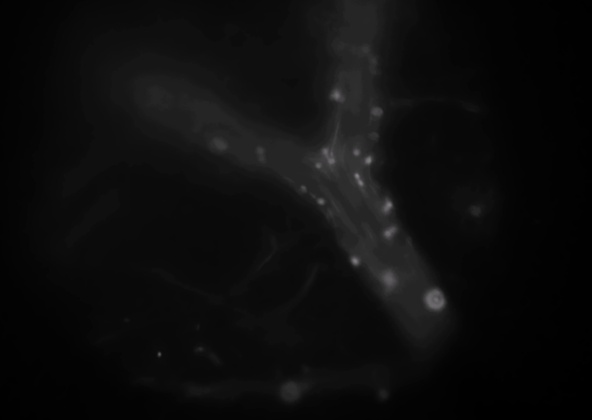cell: (429, 293, 443, 307), (369, 105, 383, 119), (349, 145, 363, 159), (362, 153, 376, 167), (317, 144, 331, 158), (311, 157, 325, 171), (325, 154, 339, 168), (322, 87, 336, 101), (351, 169, 365, 183), (336, 93, 350, 107), (354, 177, 368, 191), (347, 255, 361, 269), (381, 272, 395, 286), (381, 227, 395, 241), (381, 197, 395, 211), (385, 222, 399, 236), (379, 201, 393, 215), (314, 193, 328, 207), (295, 182, 309, 196), (254, 143, 268, 157), (212, 139, 226, 153), (360, 43, 374, 57), (367, 54, 381, 68), (332, 40, 346, 54), (366, 129, 380, 143), (255, 152, 269, 166), (328, 89, 342, 103)
